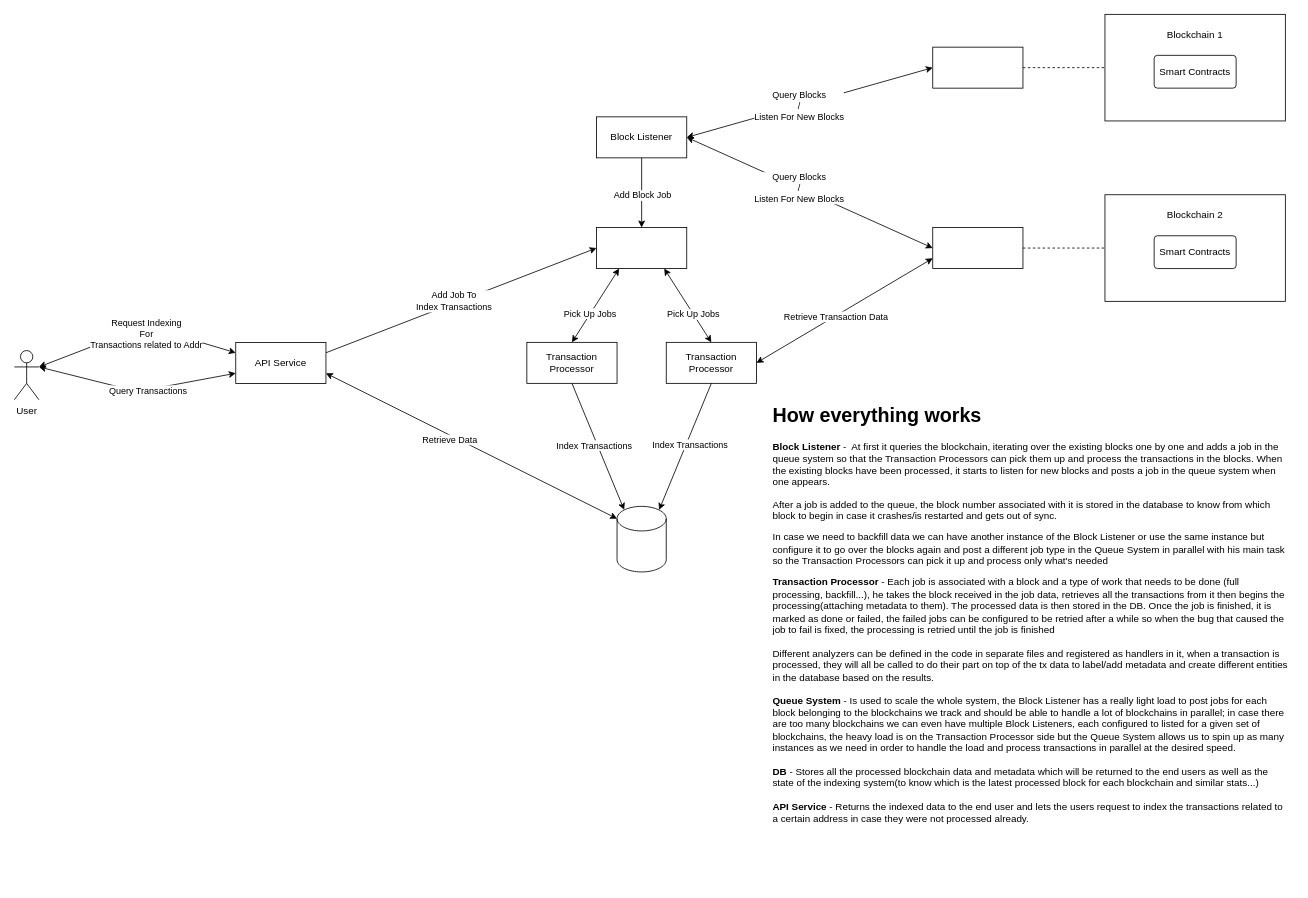
The diagram is 1308 pixels wide and 898 high, and some of its shapes have lost their labels. Here are the shapes that lost their labels. From the top down, the centre of each, then its label:
point 977,67: Blockchain 1 Node
point 641,248: Queue System
point 977,248: Blockchain 2 Node
point 641,539: DB
